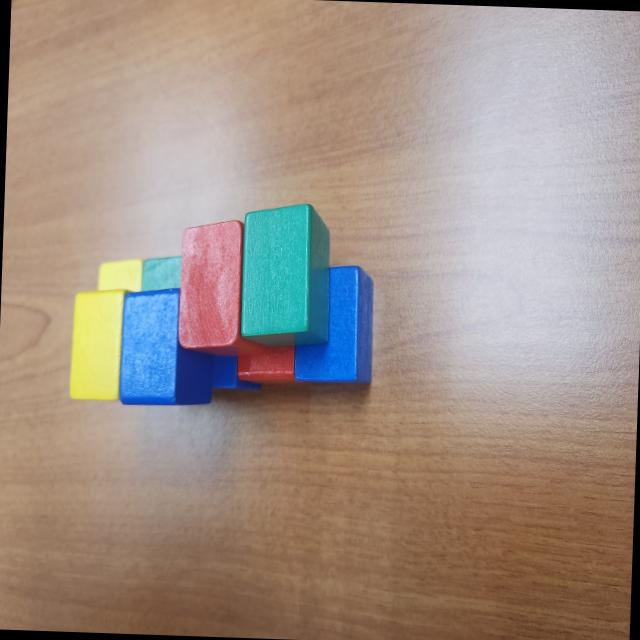blue: (118, 286, 216, 408), (292, 263, 376, 387), (208, 354, 263, 393)
green: (238, 202, 334, 348), (139, 253, 184, 295)
red: (176, 217, 272, 358), (235, 331, 316, 388)
yellow: (68, 286, 124, 402), (96, 253, 144, 294)
